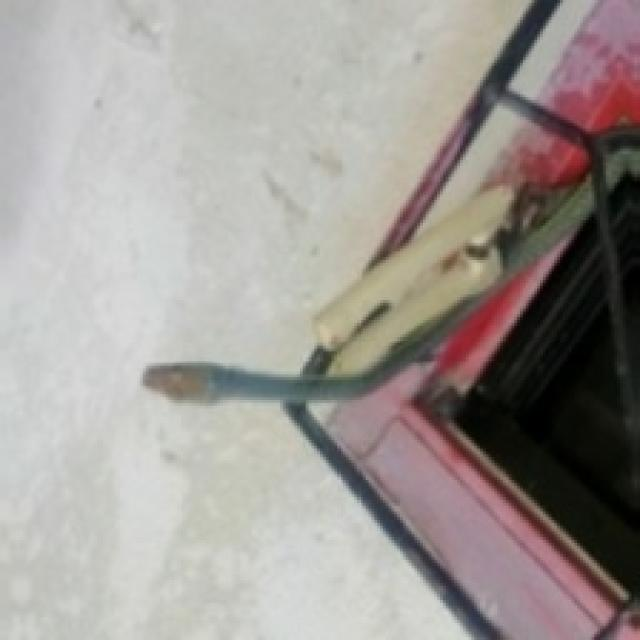paradise tree snake: (143, 0, 637, 637), (414, 106, 526, 234)
